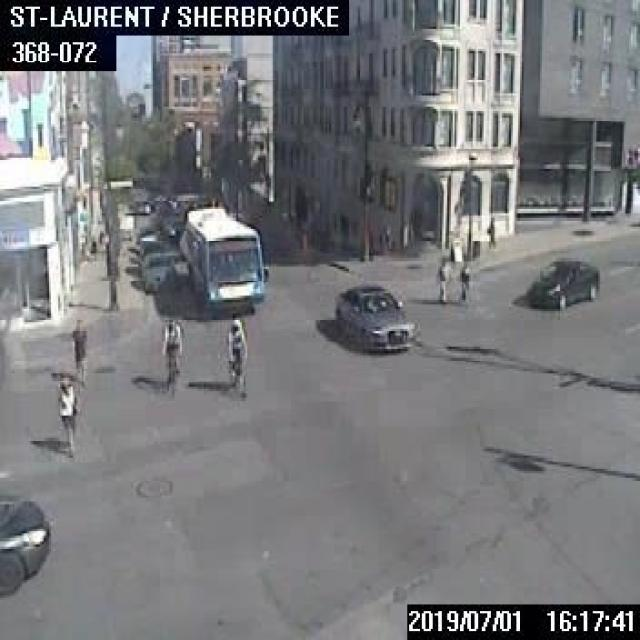bus: (185, 205, 269, 311)
cyclist: (225, 314, 248, 394), (158, 315, 182, 389)
pedestrian: (55, 375, 77, 456), (71, 317, 87, 385), (434, 249, 452, 304), (456, 251, 469, 298), (486, 215, 494, 248)
vehicle: (334, 283, 412, 352), (0, 494, 49, 596), (528, 256, 596, 306), (141, 250, 187, 293), (131, 196, 148, 213)
